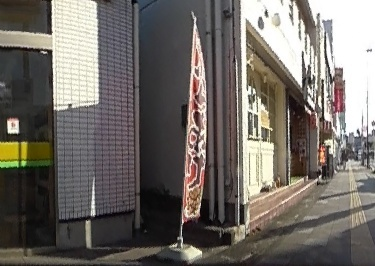person: (339, 149, 348, 172)
